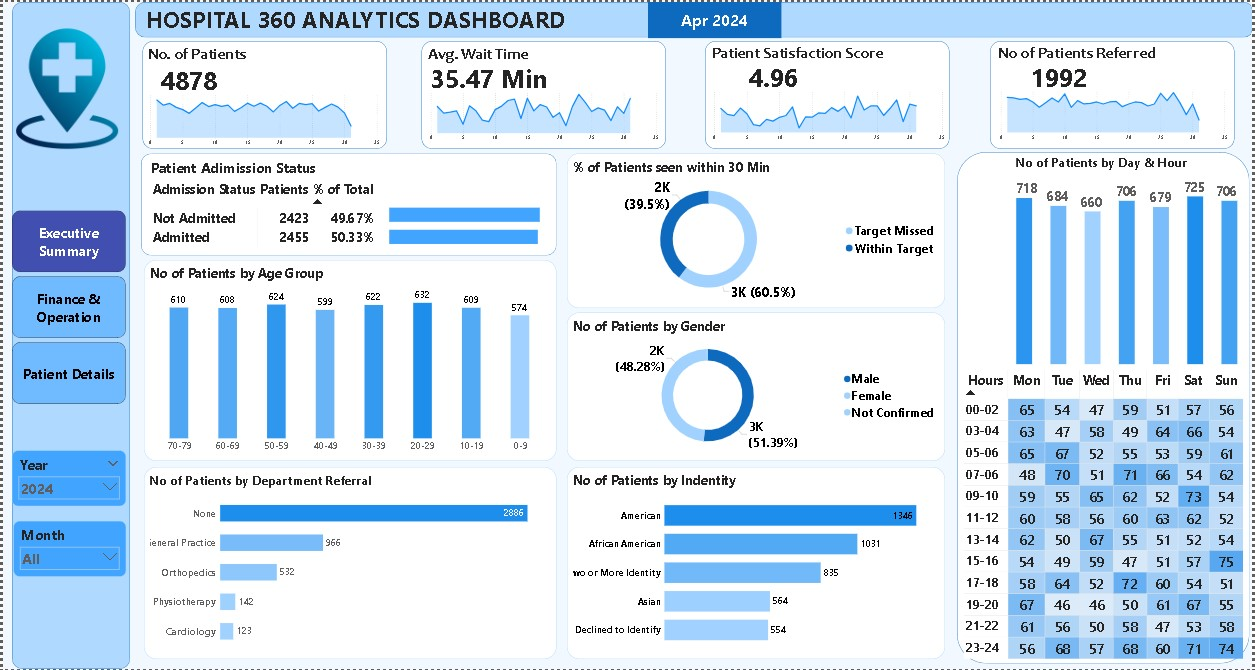

The dashboard page shown, as its layout file describes it:
{"tool":"powerbi","page":{"name":"Executive Summary","canvas":[3000,1600],"ordinal":0},"visuals":[{"type":"shape","box":[334.6,93.6,586.5,259.1],"z":0},{"type":"shape","box":[20,0,283.3,1600],"z":1000},{"type":"shape","box":[316.6,0,2684.3,85],"z":2000},{"type":"textbox","box":[338.2,0,1115.5,93.6],"z":4000},{"type":"card","fields":{"Values":["Avg(Hospital ER_Data.Patient Satisfaction Score)"]},"box":[1694,119.9,306.7,118.6],"z":5000,"group":"g3"},{"type":"card","fields":{"Values":["Date Table.No of Patients Referred"]},"box":[2382.2,119.9,301.3,118.6],"z":5000,"group":"g4"},{"type":"card","fields":{"Values":["Hospital ER_Data.Avg Wait time"]},"box":[1013.2,121.4,303.1,116],"z":5000,"group":"g2"},{"type":"card","fields":{"Values":["Hospital ER_Data.No of Patients"]},"box":[341.5,123.9,208.8,123.3],"z":5000,"group":"g1"},{"type":"slicer","fields":{"Values":["Date Table.Year"]},"box":[21.6,1075.9,273.5,133.1],"z":5000},{"type":"slicer","fields":{"Values":["Date Table.Month"]},"box":[25.2,1245,269.9,133.1],"z":6000},{"type":"card","fields":{"Values":["Min(Date Table.Month-YYYY)"]},"box":[1547.3,0,320.2,86.4],"z":7000},{"type":"textbox","box":[1695.2,93.6,491.5,64.1],"z":8000,"group":"g3"},{"type":"textbox","box":[2383.4,93.6,483,64.1],"z":8000,"group":"g4"},{"type":"textbox","box":[1014.4,95.7,299.8,62.7],"z":8000,"group":"g2"},{"type":"group","id":"g1","title":"Group 1","box":[338.2,97.2,575,259.1],"z":8000},{"type":"textbox","box":[341.5,97.2,301.6,66.7],"z":8000,"group":"g1"},{"type":"shape","box":[1003.9,93.6,586.5,259.1],"z":9000},{"type":"areaChart","fields":{"Category":["Date Table.Date.Variation.Date Hierarchy.Day"],"Y":["Avg(Hospital ER_Data.Patient Satisfaction Score)"]},"box":[1691.9,202.6,576.7,141],"z":9000,"group":"g3"},{"type":"areaChart","fields":{"Category":["Date Table.Date.Variation.Date Hierarchy.Day"],"Y":["Date Table.No of Patients Referred"]},"box":[2380.1,202.6,566.7,141],"z":9000,"group":"g4"},{"type":"areaChart","fields":{"Category":["Date Table.Date.Variation.Date Hierarchy.Day"],"Y":["Avg(Hospital ER_Data.Patient Waittime)"]},"box":[1011.1,204.4,570,139.3],"z":9000,"group":"g2"},{"type":"areaChart","fields":{"Y":["Hospital ER_Data.No of Patients"],"Category":["Date Table.Date.Variation.Date Hierarchy.Day"]},"box":[338.2,210.5,573.4,146.7],"z":9000,"group":"g1"},{"type":"group","id":"g2","title":"Group 1","box":[1011.1,95.7,570,248],"z":10000},{"type":"shape","box":[1684,93.6,586.5,259.1],"z":11000},{"type":"shape","box":[2367.7,93.6,586.5,259.1],"z":12000},{"type":"group","id":"g3","title":"Group 1","box":[1691.9,93.6,575.7,248.3],"z":13000},{"type":"group","id":"g4","title":"Group 1","box":[2380.1,93.6,568.5,248.3],"z":14000},{"type":"shape","box":[331,363.4,996.7,244.7],"z":15000},{"type":"pivotTable","title":"Patient Adimission Status","fields":{"Rows":["Hospital ER_Data.Admission Status"],"Values":["Hospital ER_Data.No of Patients","Divide(Hospital ER_Data.No of Patients, ScopedEval(Hospital ER_Data.No of Patients, []))"]},"box":[349,374.2,572.1,230.3],"z":16000},{"type":"barChart","fields":{"Category":["Hospital ER_Data.Admission Status"],"Y":["Hospital ER_Data.No of Patients"]},"box":[921.2,453.4,377.8,161.9],"z":17000},{"type":"columnChart","fields":{"Y":["Hospital ER_Data.No of Patients"],"Category":["Hospital ER_Data.Age Group"]},"box":[338.2,618.9,989.5,482.2],"z":19000},{"type":"barChart","fields":{"Category":["Hospital ER_Data.Department Referral"],"Y":["Hospital ER_Data.No of Patients"]},"box":[338.2,1115.5,989.5,460.6],"z":21000},{"type":"barChart","title":"No of Patients by Indentity","fields":{"Y":["Hospital ER_Data.No of Patients"],"Category":["Hospital ER_Data.Patient Identity"]},"box":[1353,1115.5,906.8,460.6],"z":23000},{"type":"shape","box":[2288.5,359.8,701.7,1227],"z":25000},{"type":"donutChart","title":"No of Patients by Gender","fields":{"Y":["Hospital ER_Data.No of Patients"],"Category":["Hospital ER_Data.Patient Gender"]},"box":[1353,744.8,906.8,356.2],"z":27000},{"type":"donutChart","title":"% of Patients seen within 30 Min","fields":{"Y":["Hospital ER_Data.No of Patients"],"Category":["Hospital ER_Data.Wait Time Target"]},"box":[1353,363.4,906.8,370.6],"z":28000},{"type":"pivotTable","fields":{"Columns":["Date Table.Day"],"Rows":["Hospital ER_Data.Admission Interval"],"Values":["Hospital ER_Data.No of Patients"]},"box":[2299.3,878,701.7,716.1],"z":29000},{"type":"columnChart","title":"No of Patients by Day & Hour","fields":{"Category":["Date Table.Day"],"Y":["Hospital ER_Data.No of Patients"]},"box":[2425.2,363.4,543.3,511],"z":30000},{"type":"image","box":[3.3,56.7,300,300],"z":31000},{"type":"pageNavigator","box":[20,500,273.3,466.7],"z":32000}]}

Visuals, with their boxes in screenshot pixels (x1, y1, x2, y2), scaled from the page's 3000x1600 canvas onto the 1255x670 screenshot:
shape: region(140, 39, 385, 148)
shape: region(8, 0, 127, 669)
shape: region(132, 0, 1254, 36)
textbox: region(141, 0, 608, 39)
card - Avg(Hospital ER_Data.Patient Satisfaction Score): region(709, 50, 837, 100)
card - Date Table.No of Patients Referred: region(997, 50, 1123, 100)
card - Hospital ER_Data.Avg Wait time: region(424, 51, 551, 99)
card - Hospital ER_Data.No of Patients: region(143, 52, 230, 104)
slicer - Date Table.Year: region(9, 451, 123, 506)
slicer - Date Table.Month: region(11, 521, 123, 577)
card - Min(Date Table.Month-YYYY): region(647, 0, 781, 36)
textbox: region(709, 39, 915, 66)
textbox: region(997, 39, 1199, 66)
textbox: region(424, 40, 550, 66)
"Group 1" group: region(141, 41, 382, 149)
textbox: region(143, 41, 269, 69)
shape: region(420, 39, 665, 148)
areaChart - Date Table.Date.Variation.Date Hierarchy.Day x Avg(Hospital ER_Data.Patient Satisfaction Score): region(708, 85, 949, 144)
areaChart - Date Table.Date.Variation.Date Hierarchy.Day x Date Table.No of Patients Referred: region(996, 85, 1233, 144)
areaChart - Date Table.Date.Variation.Date Hierarchy.Day x Avg(Hospital ER_Data.Patient Waittime): region(423, 86, 661, 144)
areaChart - Hospital ER_Data.No of Patients x Date Table.Date.Variation.Date Hierarchy.Day: region(141, 88, 381, 150)
"Group 1" group: region(423, 40, 661, 144)
shape: region(704, 39, 950, 148)
shape: region(990, 39, 1236, 148)
"Group 1" group: region(708, 39, 949, 143)
"Group 1" group: region(996, 39, 1233, 143)
shape: region(138, 152, 555, 255)
"Patient Adimission Status" pivotTable: region(146, 157, 385, 253)
barChart - Hospital ER_Data.Admission Status x Hospital ER_Data.No of Patients: region(385, 190, 543, 258)
columnChart - Hospital ER_Data.No of Patients x Hospital ER_Data.Age Group: region(141, 259, 555, 461)
barChart - Hospital ER_Data.Department Referral x Hospital ER_Data.No of Patients: region(141, 467, 555, 660)
"No of Patients by Indentity" barChart: region(566, 467, 945, 660)
shape: region(957, 151, 1251, 664)
"No of Patients by Gender" donutChart: region(566, 312, 945, 461)
"% of Patients seen within 30 Min" donutChart: region(566, 152, 945, 307)
pivotTable - Date Table.Day x Hospital ER_Data.Admission Interval: region(962, 368, 1254, 668)
"No of Patients by Day & Hour" columnChart: region(1015, 152, 1242, 366)
image: region(1, 24, 127, 149)
pageNavigator: region(8, 209, 123, 405)
